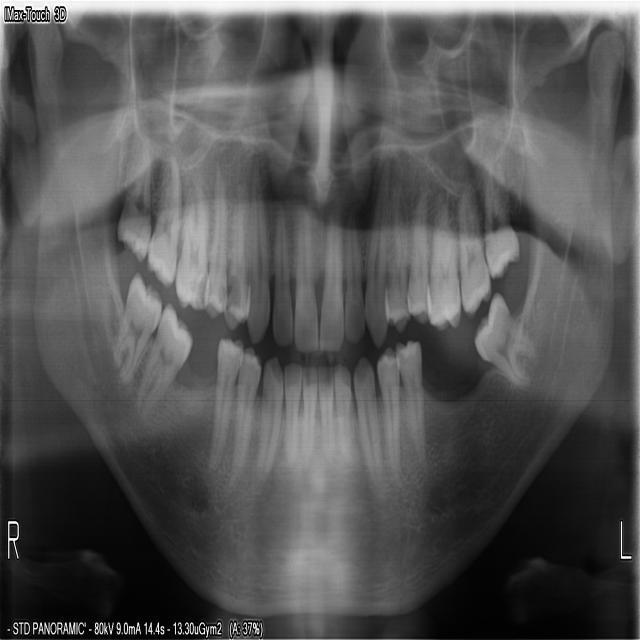LCD: (350, 350, 383, 502)
LCU: (364, 153, 390, 350)
LID: (333, 361, 351, 466), (317, 363, 335, 466)
LIU: (318, 193, 344, 353), (343, 189, 366, 347)
LMD: (471, 289, 537, 388)
LMU: (480, 153, 519, 282), (457, 180, 491, 320), (429, 193, 460, 332)
LPMD: (393, 336, 428, 475), (374, 343, 399, 485)
LPMU: (388, 161, 411, 337), (407, 181, 431, 329)
RCD: (247, 352, 282, 497)
RCU: (245, 152, 269, 346)
RID: (281, 357, 300, 472), (299, 363, 316, 474)
RIU: (291, 200, 317, 352), (270, 198, 291, 350)
RMD: (132, 298, 192, 424), (108, 267, 161, 387)
RMU: (171, 161, 208, 313), (145, 145, 180, 289), (115, 143, 152, 264)
RPMD: (203, 331, 243, 475), (225, 344, 259, 490)
RPMU: (220, 169, 247, 332), (200, 153, 226, 319)
